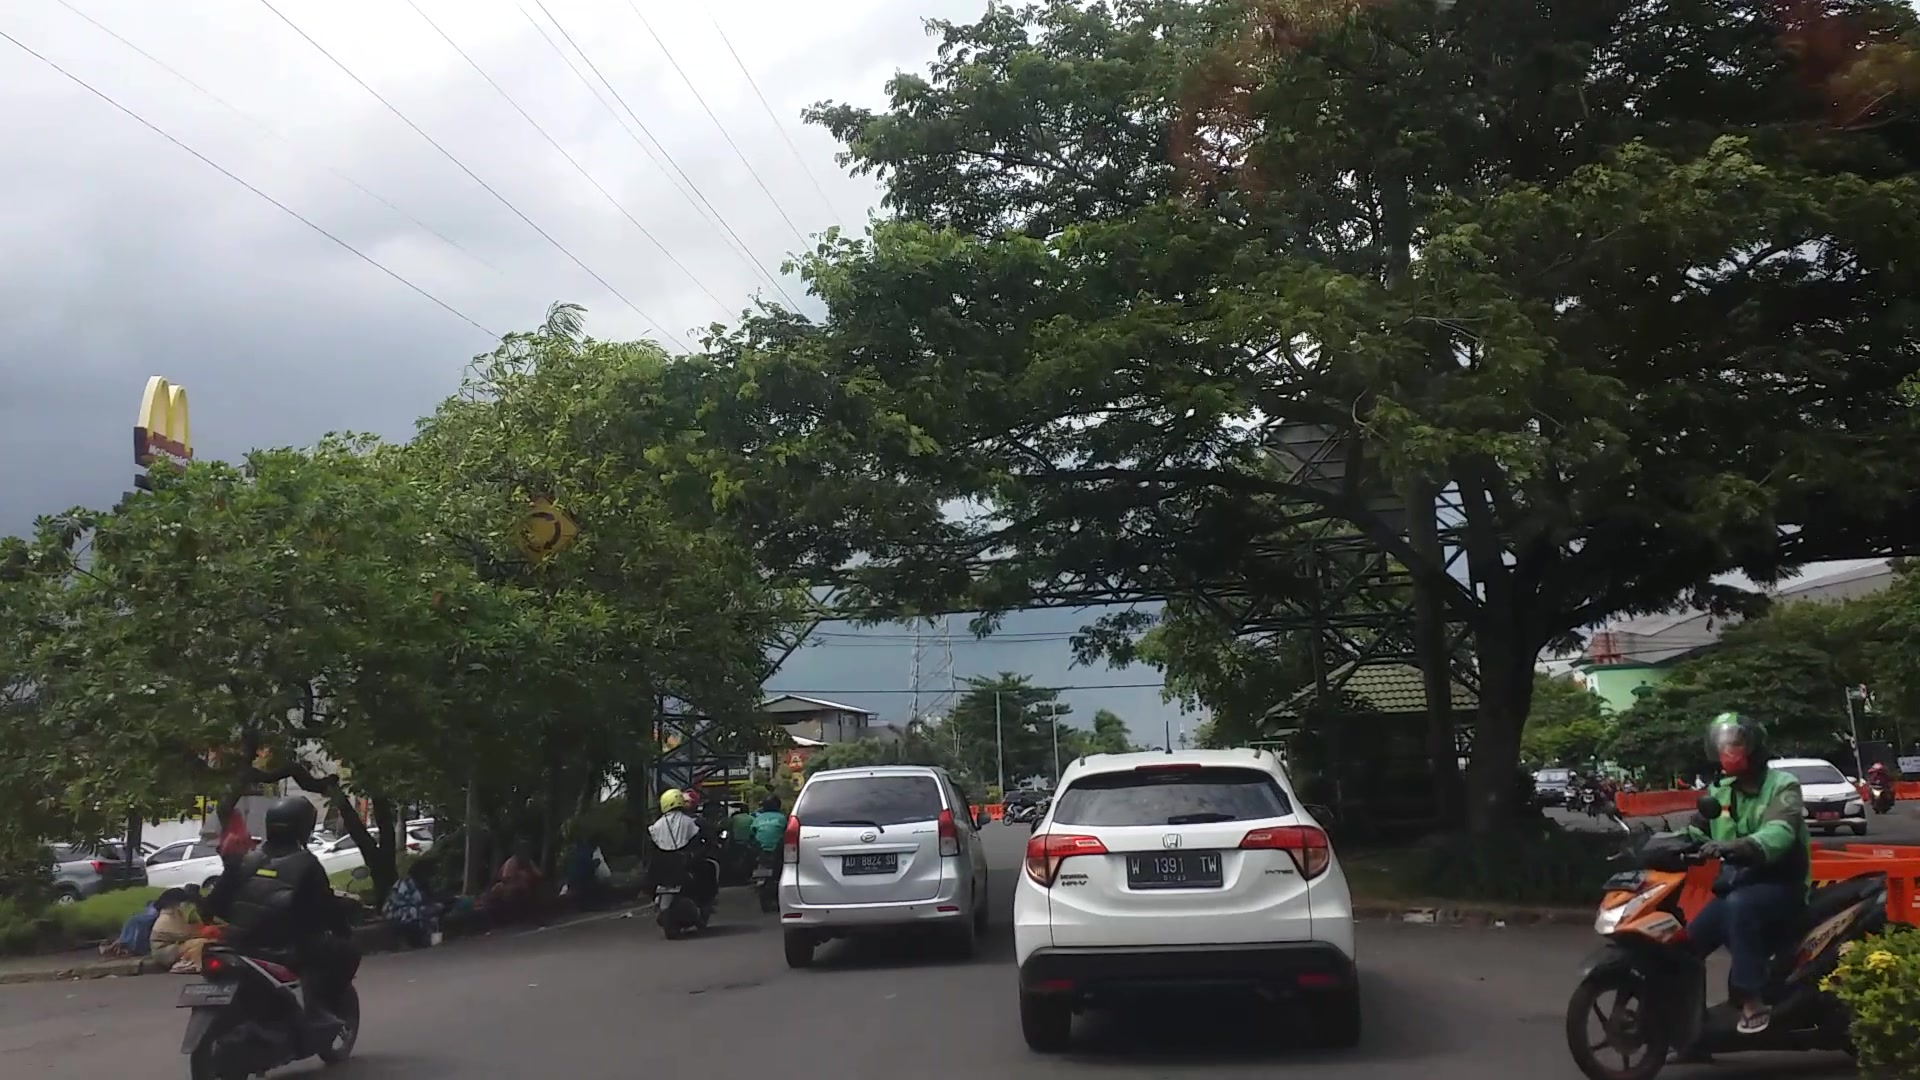plate_positive: (1127, 852, 1222, 887), (843, 855, 897, 874)
